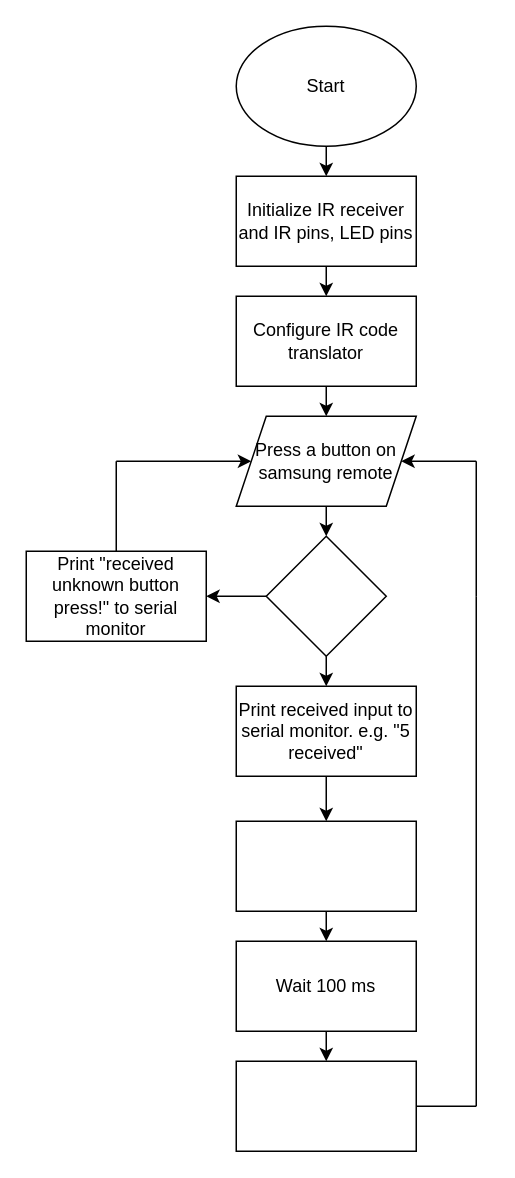
Some shapes in this 515 by 1178 pixel diagram are drawn without their labels. The centre of each missing label's shape, as x and y in pixels:
"Is it 1 through 5 exclusive?" belongs at (x=325, y=595).
"Turn off LED" belongs at (x=325, y=1105).
"Turn on corresponding LED" belongs at (x=325, y=865).
